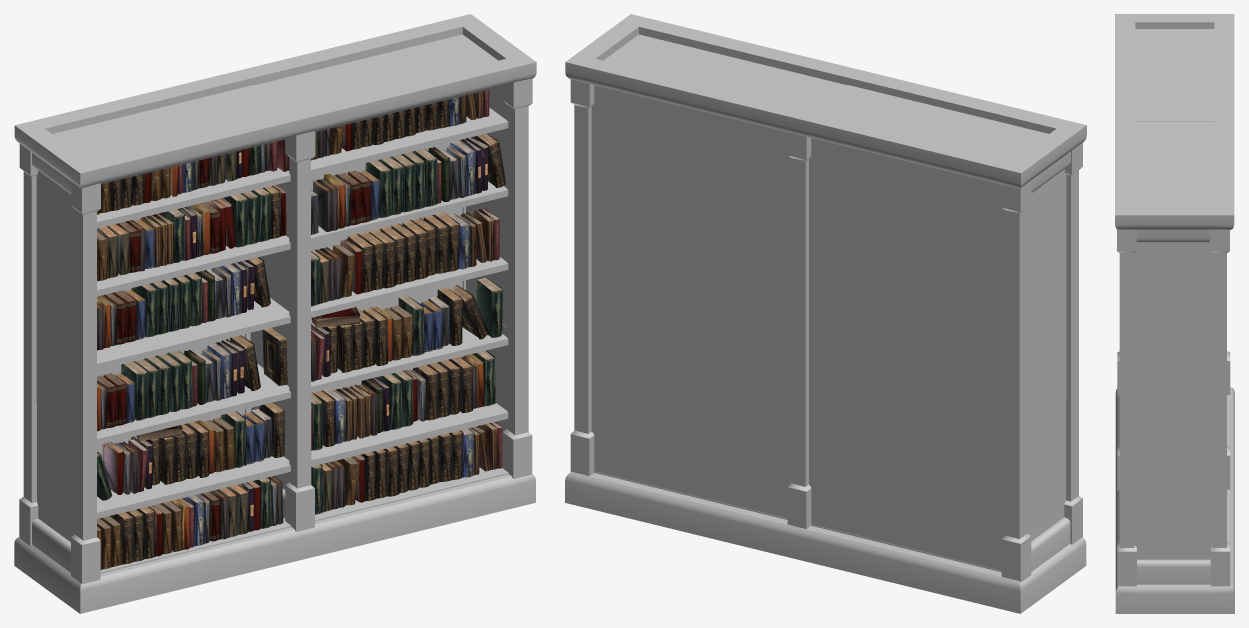
The picture shows the model from 3 angles, left to right: view 1: azimuth 30°, elevation 25°; view 2: azimuth 150°, elevation 25°; view 3: azimuth 270°, elevation 25°; orthographic projection. The views are drawn at different scales.
Visible parts, largest first — view 1: Bookcase_06, Book_01_12; view 2: Bookcase_06; view 3: Bookcase_06.
Part boxes in pixels (x1,y1,x2,y2): Bookcase_06: [14, 14, 536, 613]; Book_01_12: [97, 90, 505, 569]; Bookcase_06: [565, 14, 1086, 613]; Bookcase_06: [1115, 14, 1234, 613].
Bounding box in the file's own units: 272 × 251 × 68.35.
